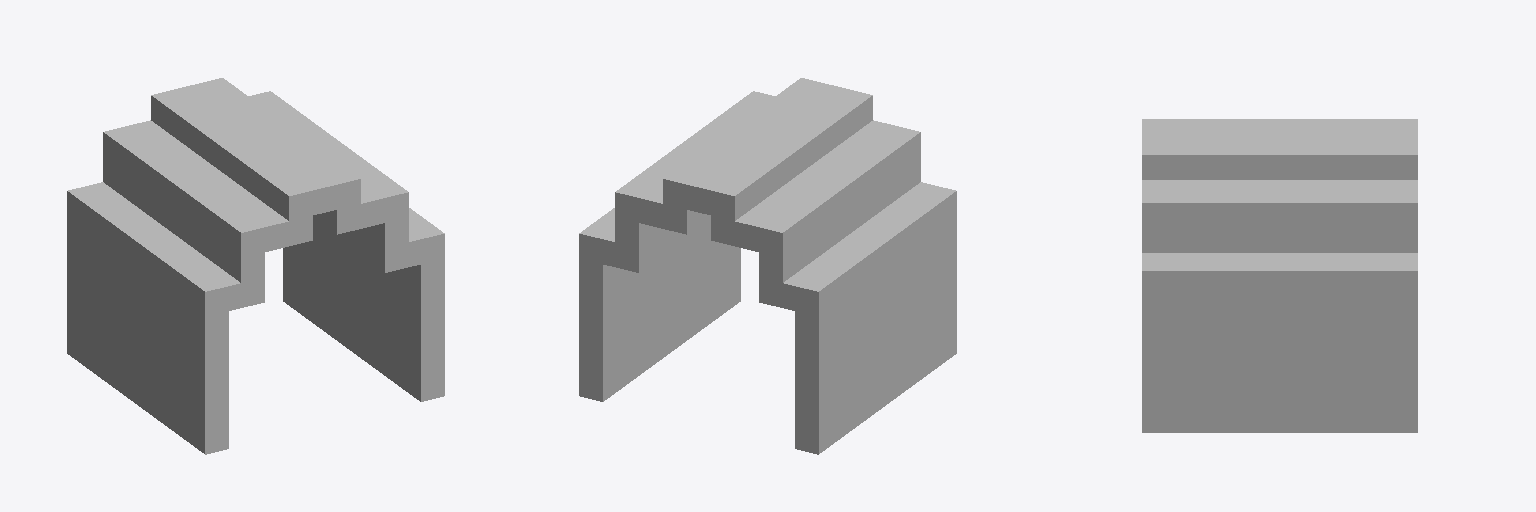
File: portal.obj
The picture shows the model from 3 angles: view 1: azimuth 30°, elevation 25°; view 2: azimuth 150°, elevation 25°; view 3: azimuth 270°, elevation 25°; orthographic projection.
Bounding box in the file's own units: 20 × 19 × 20.